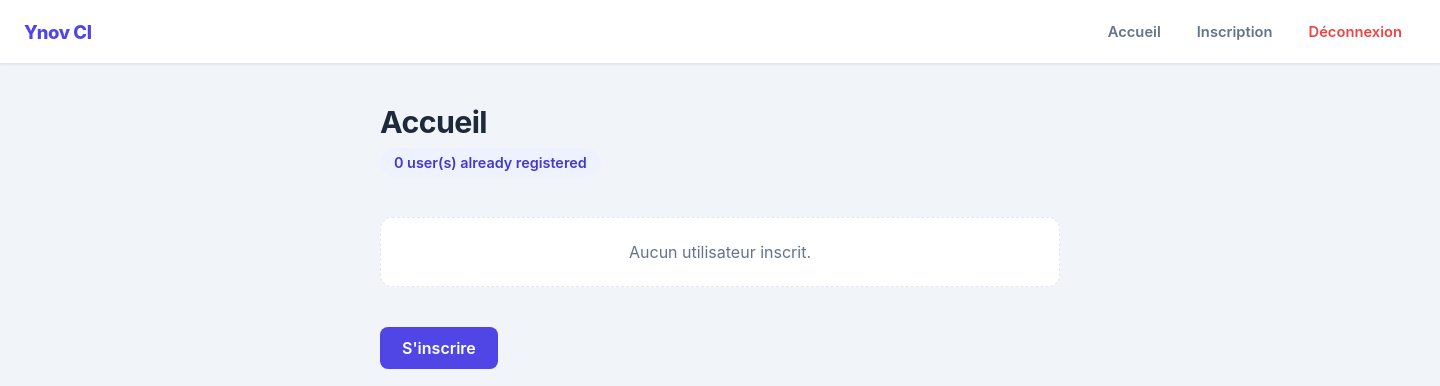
Test: App › la déconnexion supprime le token et réaffiche le lien connexion
Check: the text "0 user(s) already registered" is shown, box [380, 148, 601, 177]
Click the button with test id "nav-logout" at coordinates (1355, 32), box [1294, 14, 1416, 48]
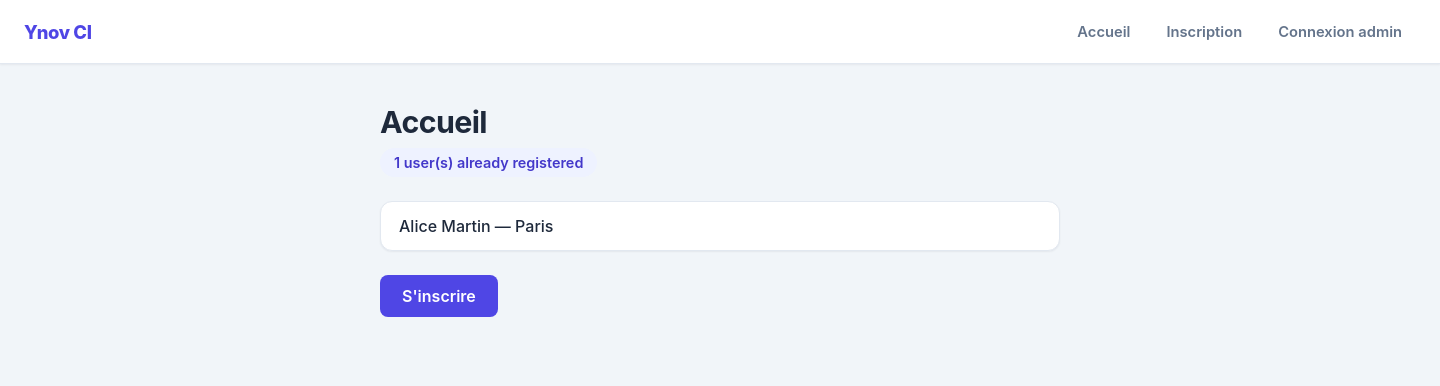
Check: the link with test id "nav-login" is shown, box [1278, 22, 1402, 40]
